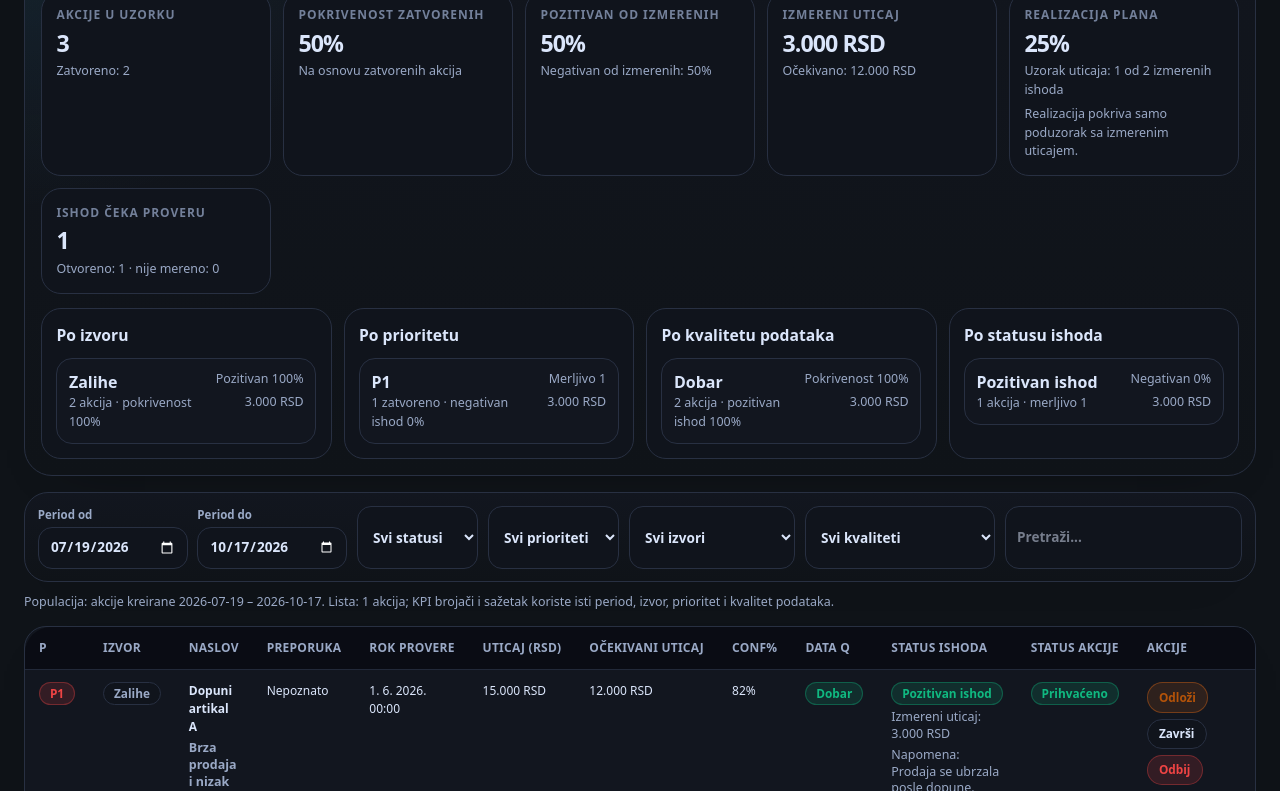
Scenario: AnalyticsActionsPage › shows a reset chip for active summary filters
(page scrolled)
Expected: the text "Dopuni artikal A" is shown, [189,682,232,735]
Click the button "Zalihe 2 akcija · pokrivenost 100% Pozitivan 100% 3.000 RSD" at (186, 401), box [56,358,316,444]
(page scrolled)
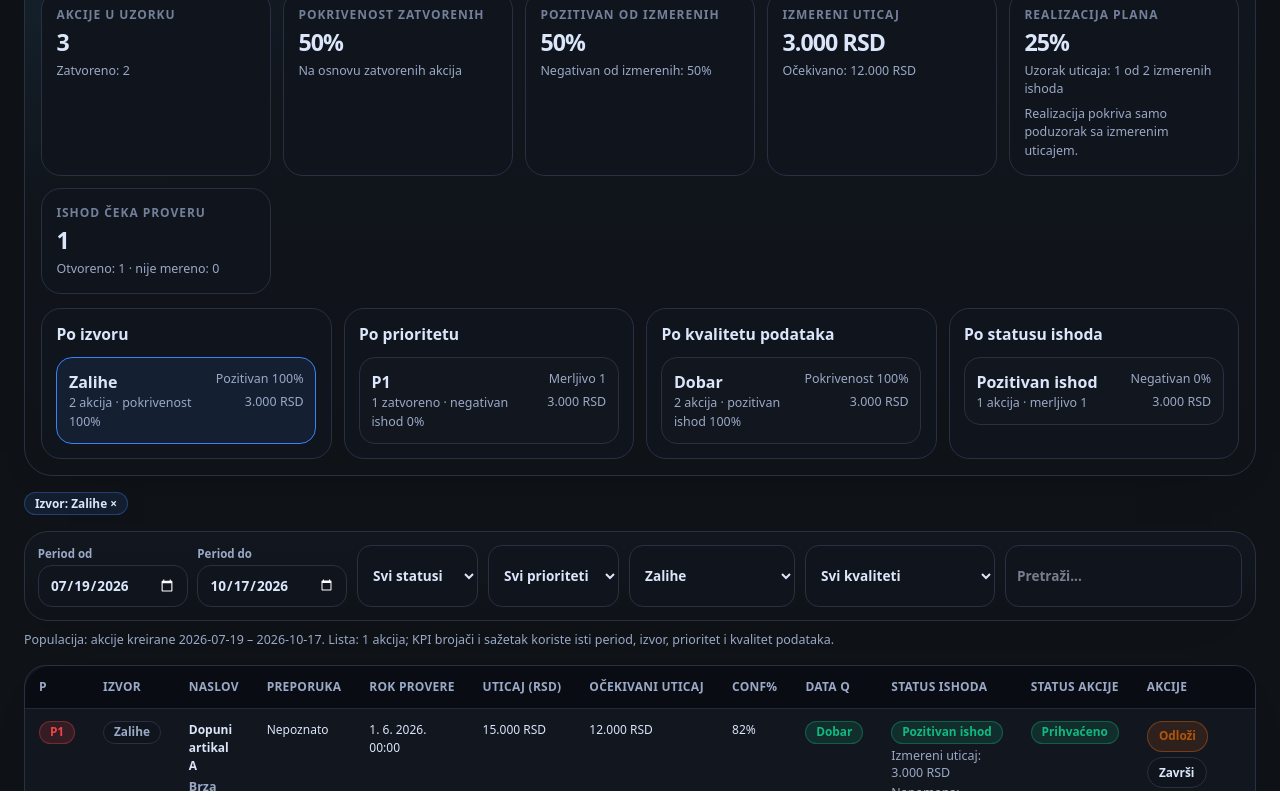
Expected: the button "Izvor: Zalihe ×" is shown
Click the button "Izvor: Zalihe ×" at (76, 504), box [24,492,128,515]
(page scrolled)
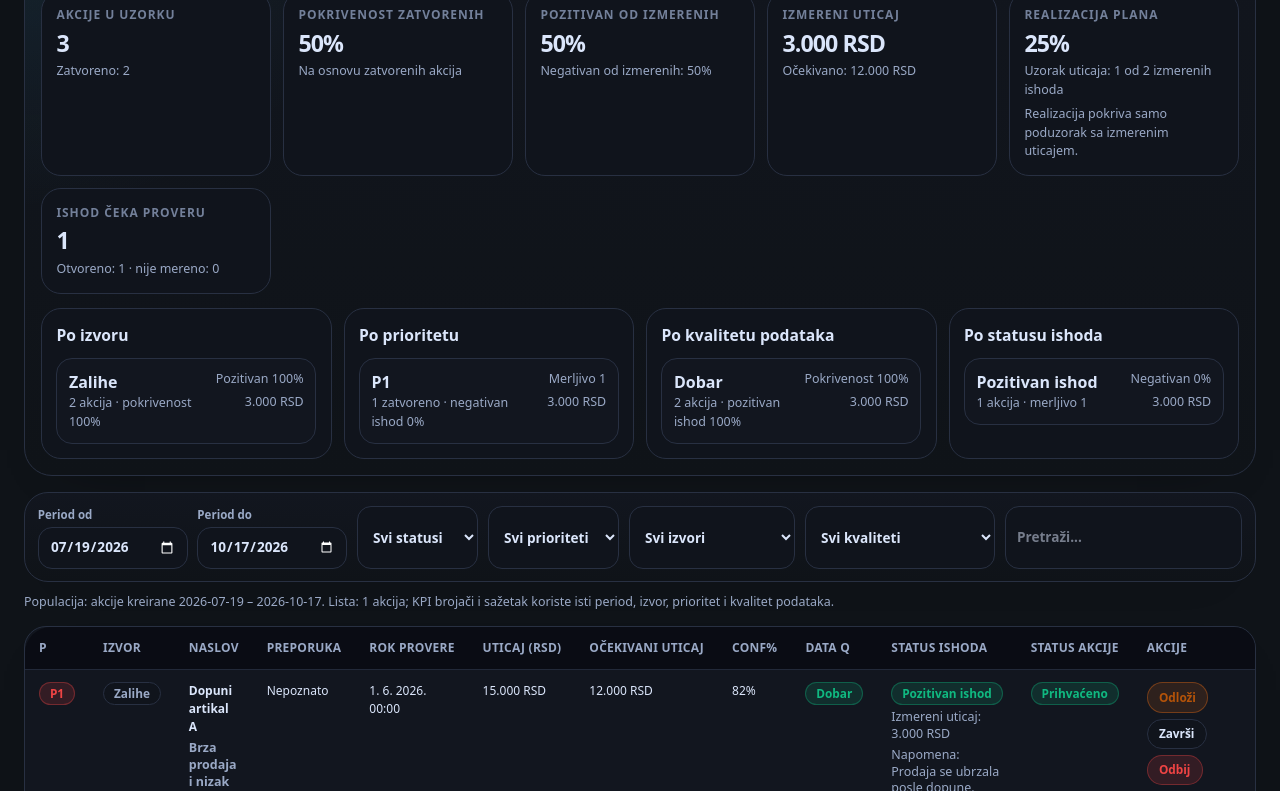
Expected: the dropdown named "Filter po izvoru" shows "Svi izvori", [629,506,795,569]
